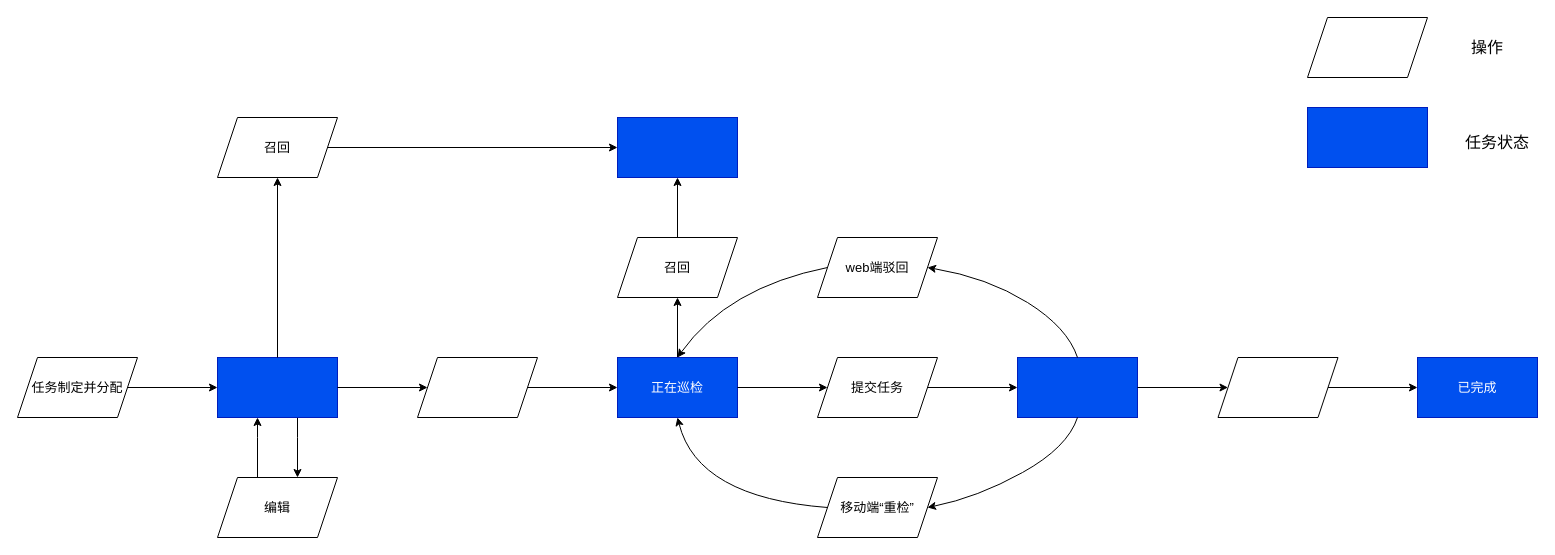
The diagram is 1555 pixels wide and 555 high, and some of its shapes have lost their labels. The centre of each missing label's shape, as x and y in pixels:
审核任务: [1277,387]
已召回: [677,147]
待审核: [1077,387]
待巡检: [277,387]
浏览领取: [477,387]
